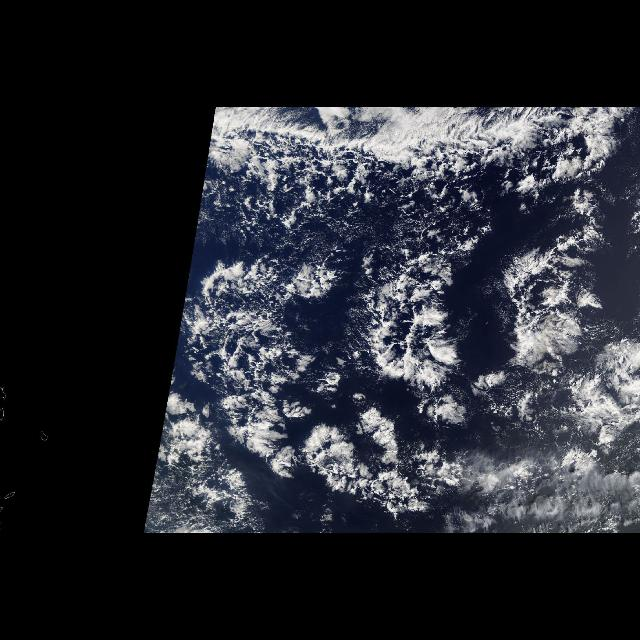Fish: (198, 216, 640, 524), (204, 107, 636, 181)
Gravel: (212, 164, 586, 272)
